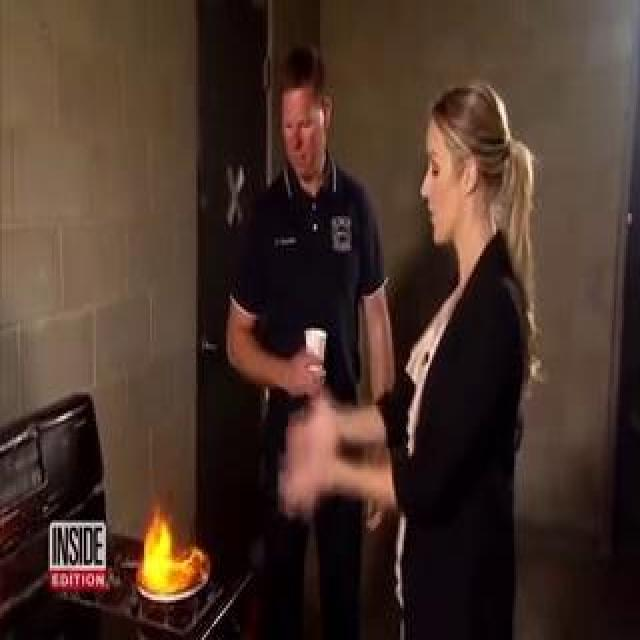Fire: (74, 122, 174, 538)
